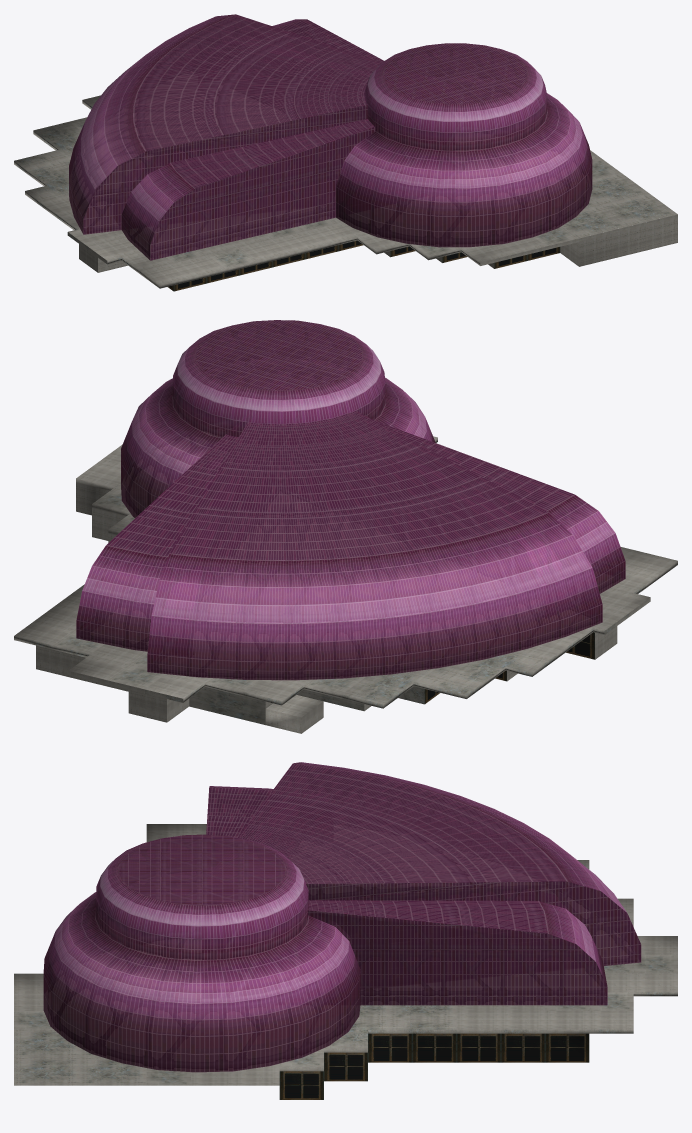
File: circusconstruct03.obj
The picture shows the model from 3 angles, top to bottom: view 1: azimuth 30°, elevation 25°; view 2: azimuth 150°, elevation 25°; view 3: azimuth 270°, elevation 25°; orthographic projection. The views are drawn at different scales.
Parts seen in each view (by area): view 1: circusconstruct03; view 2: circusconstruct03; view 3: circusconstruct03.
Boxes of the visible parts, x1=… form: circusconstruct03: x1=14, y1=14, x2=677, y2=291; circusconstruct03: x1=14, y1=320, x2=677, y2=733; circusconstruct03: x1=14, y1=762, x2=677, y2=1099.
Bounding box in the file's own units: 96.29 × 30.73 × 100.
Materials: 9 (9 with a texture image).
